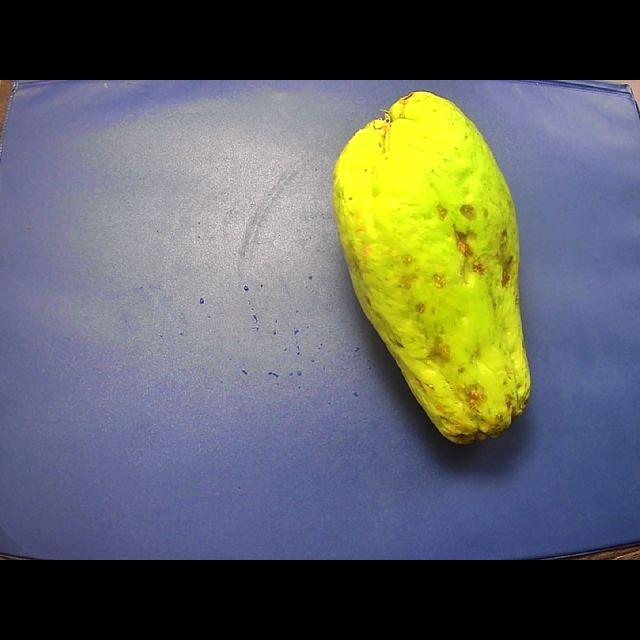chayote: (333, 92, 530, 443)
